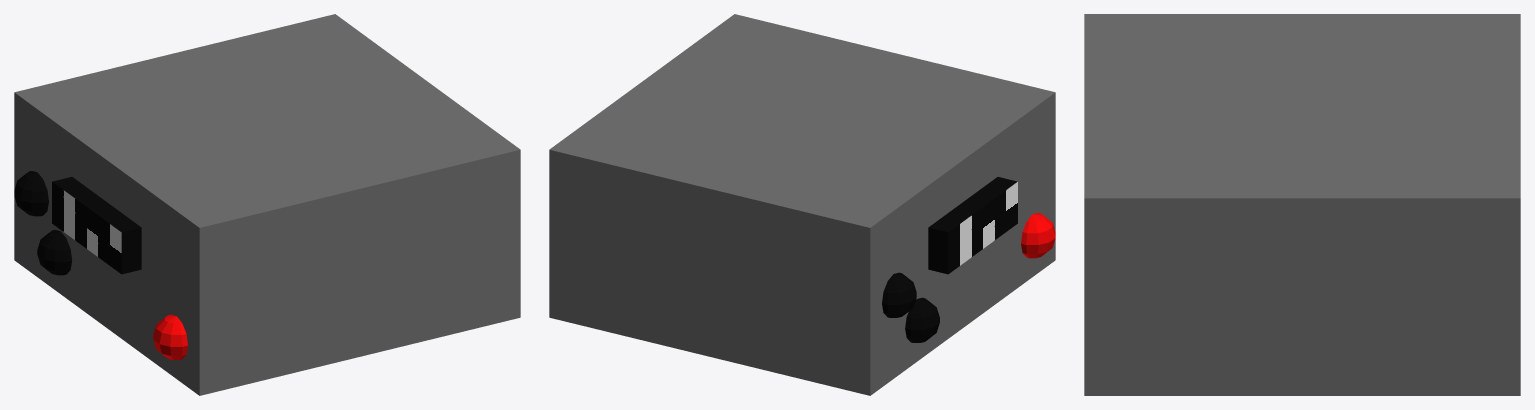
The model's file is Radio.gltf.
3 renders of one model, left to right at view 1: azimuth 30°, elevation 25°; view 2: azimuth 150°, elevation 25°; view 3: azimuth 270°, elevation 25°, orthographic. The views are drawn at different scales.
Visible parts, largest first — view 1: mesh (×2), sphere (×3); view 2: mesh (×2), sphere (×3); view 3: mesh.
Part boxes in pixels (bbox=[...]): mesh (×2): bbox=[14, 14, 520, 395]; sphere (×3): bbox=[14, 171, 187, 359]; mesh (×2): bbox=[549, 14, 1055, 395]; sphere (×3): bbox=[882, 213, 1055, 342]; mesh: bbox=[1084, 14, 1520, 395].
Size of the model in its own units: 1.06 by 0.5 by 1.
4 materials, 4 textured.
